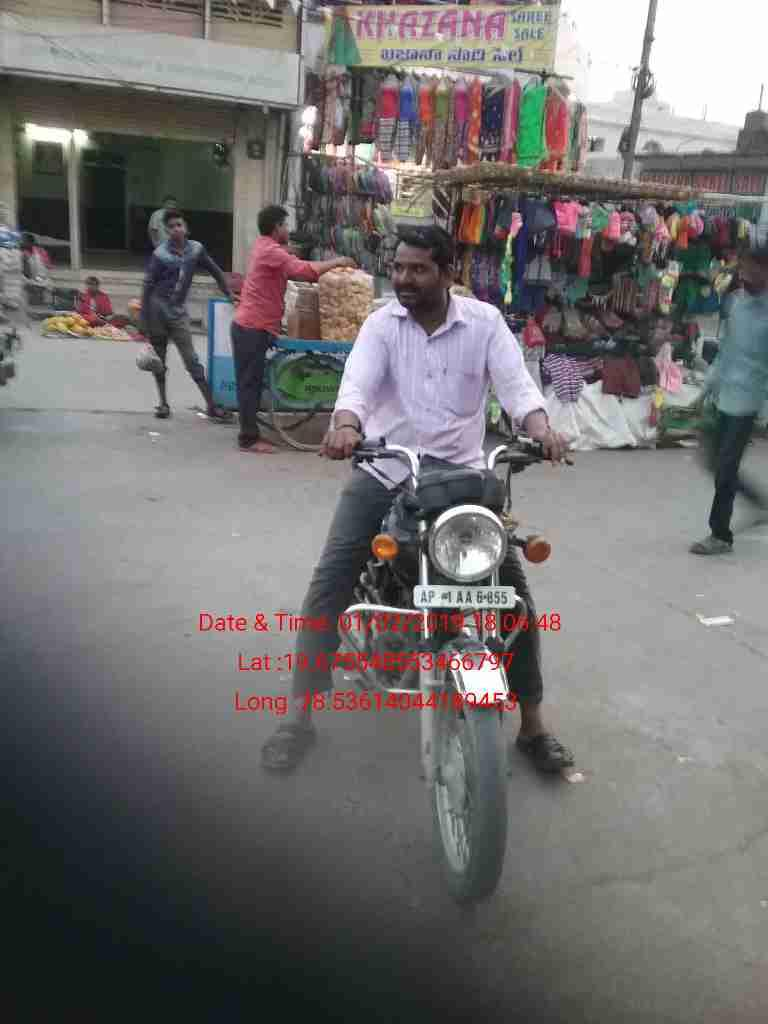plate: (413, 580, 522, 616)
